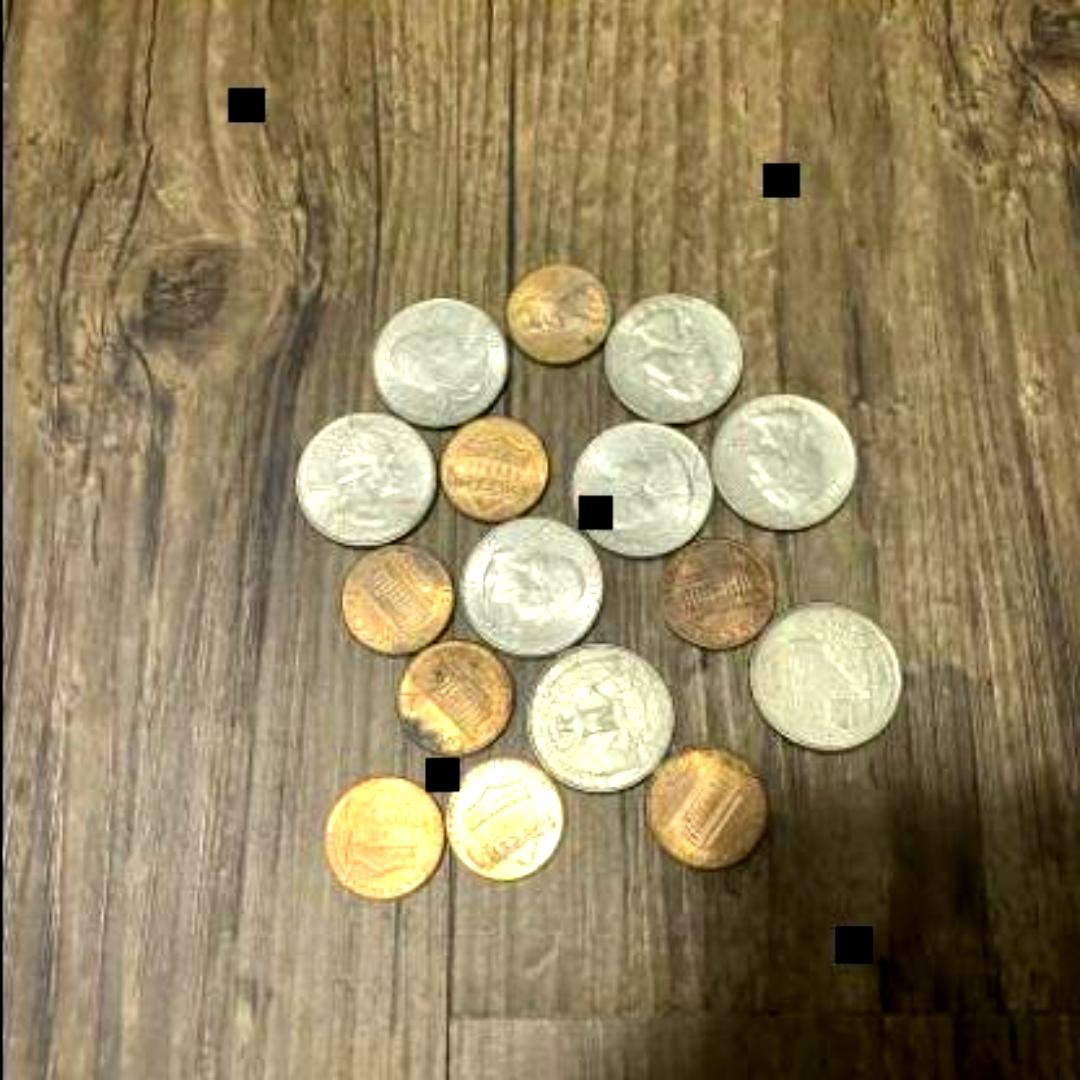Penny: (316, 768, 440, 902), (640, 740, 764, 870), (436, 757, 560, 881), (392, 638, 512, 758), (650, 538, 770, 652), (336, 540, 454, 654), (436, 411, 550, 520), (499, 264, 608, 366)
Quarter: (740, 601, 900, 751), (522, 642, 668, 788), (288, 410, 442, 546), (459, 516, 601, 658), (708, 392, 854, 530), (565, 419, 707, 559), (362, 288, 502, 426), (598, 298, 740, 422)
